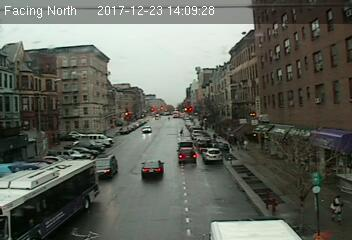bus: (1, 158, 100, 234)
car: (93, 153, 119, 178), (139, 159, 165, 178), (177, 147, 198, 163), (203, 148, 223, 161)
pedestrian: (328, 195, 344, 225)
